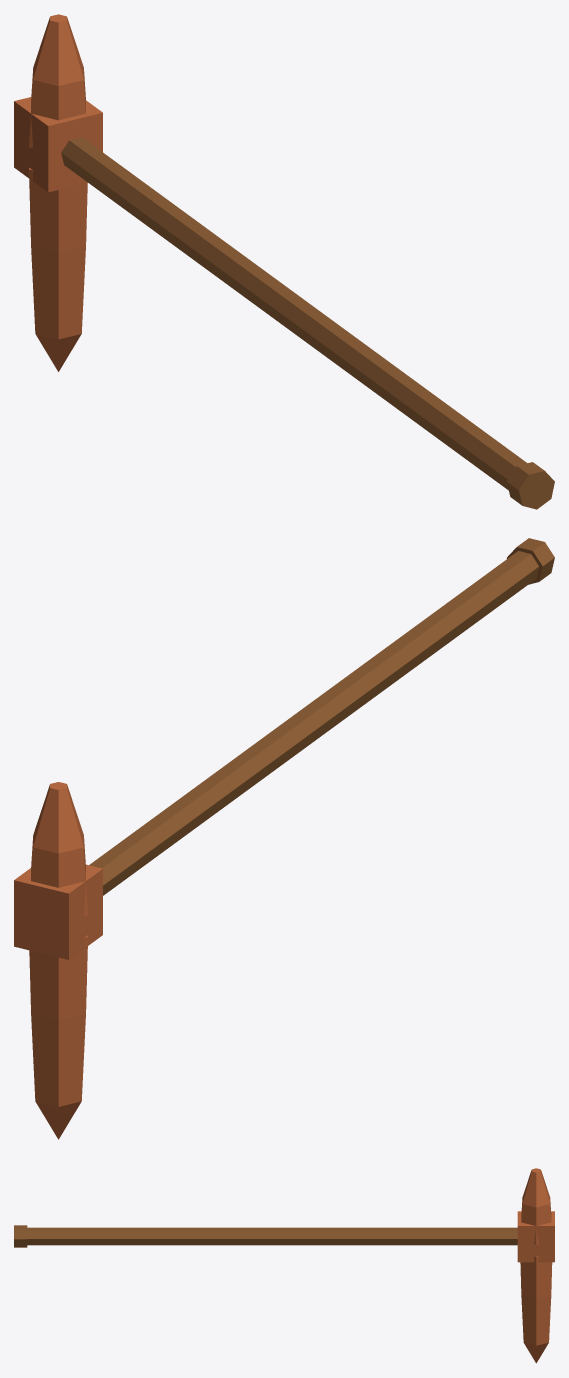
File: Tool_Pickaxe_Copper.fbx
3 views of the same model, one above another, from view 1: azimuth 30°, elevation 25°; view 2: azimuth 150°, elevation 25°; view 3: azimuth 270°, elevation 25° (orthographic). The views are drawn at different scales.
Visible parts, largest first — view 1: Tool_Pickaxe_Copper; view 2: Tool_Pickaxe_Copper; view 3: Tool_Pickaxe_Copper.
Boxes of the visible parts, bbox=[...] form: Tool_Pickaxe_Copper: bbox=[14, 14, 554, 509]; Tool_Pickaxe_Copper: bbox=[14, 538, 554, 1139]; Tool_Pickaxe_Copper: bbox=[14, 1168, 554, 1363].
Size of the model in its own units: 2.8 by 16 by 40.6.
